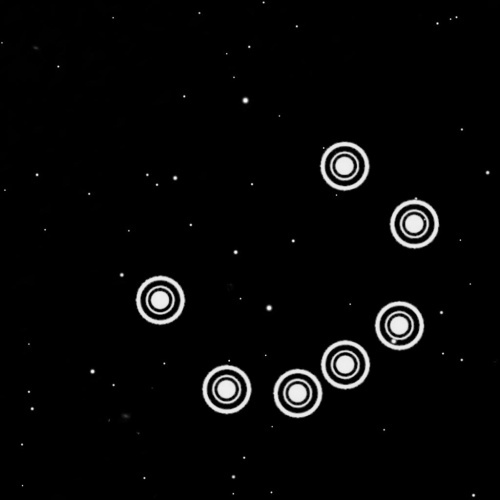corona_borealis: (127, 127, 443, 426)
